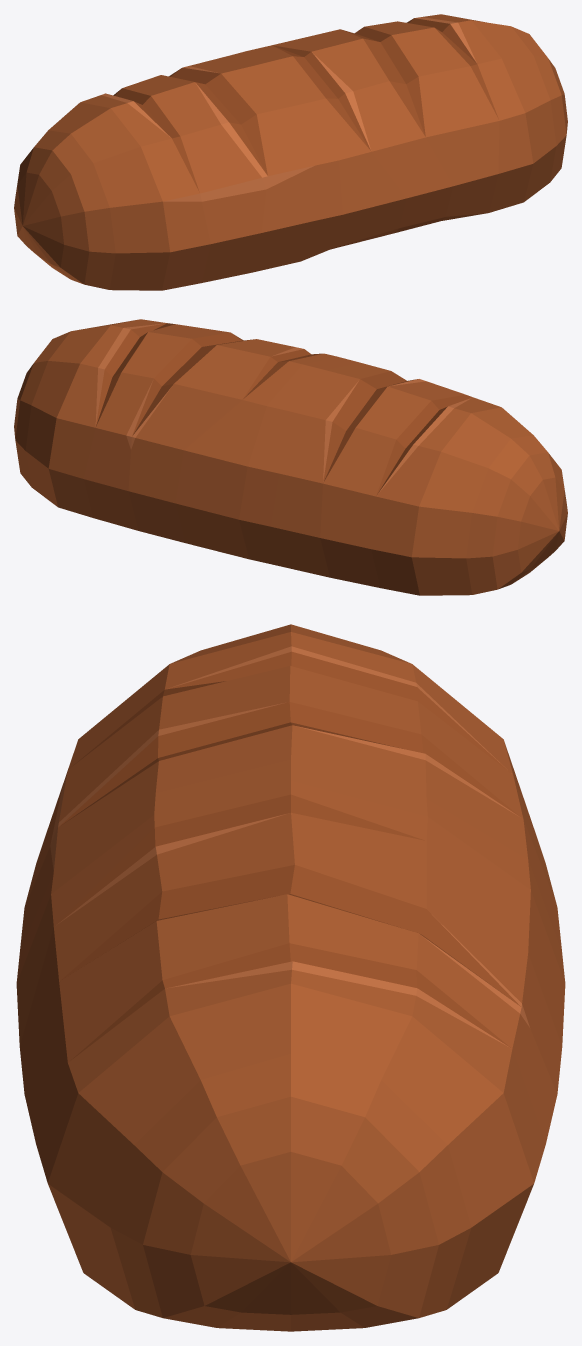
Rendered from mesh_bread.fbx.
3 views of the same model, one above another, from view 1: azimuth 30°, elevation 25°; view 2: azimuth 150°, elevation 25°; view 3: azimuth 270°, elevation 25° (orthographic). The views are drawn at different scales.
Parts seen in each view (by area): view 1: mesh_bread; view 2: mesh_bread; view 3: mesh_bread.
Boxes of the visible parts, bbox=[...] form: mesh_bread: bbox=[14, 14, 567, 290]; mesh_bread: bbox=[14, 319, 567, 595]; mesh_bread: bbox=[16, 624, 565, 1331].
Size of the model in its own units: 0.7182 by 0.2037 by 0.3181.
